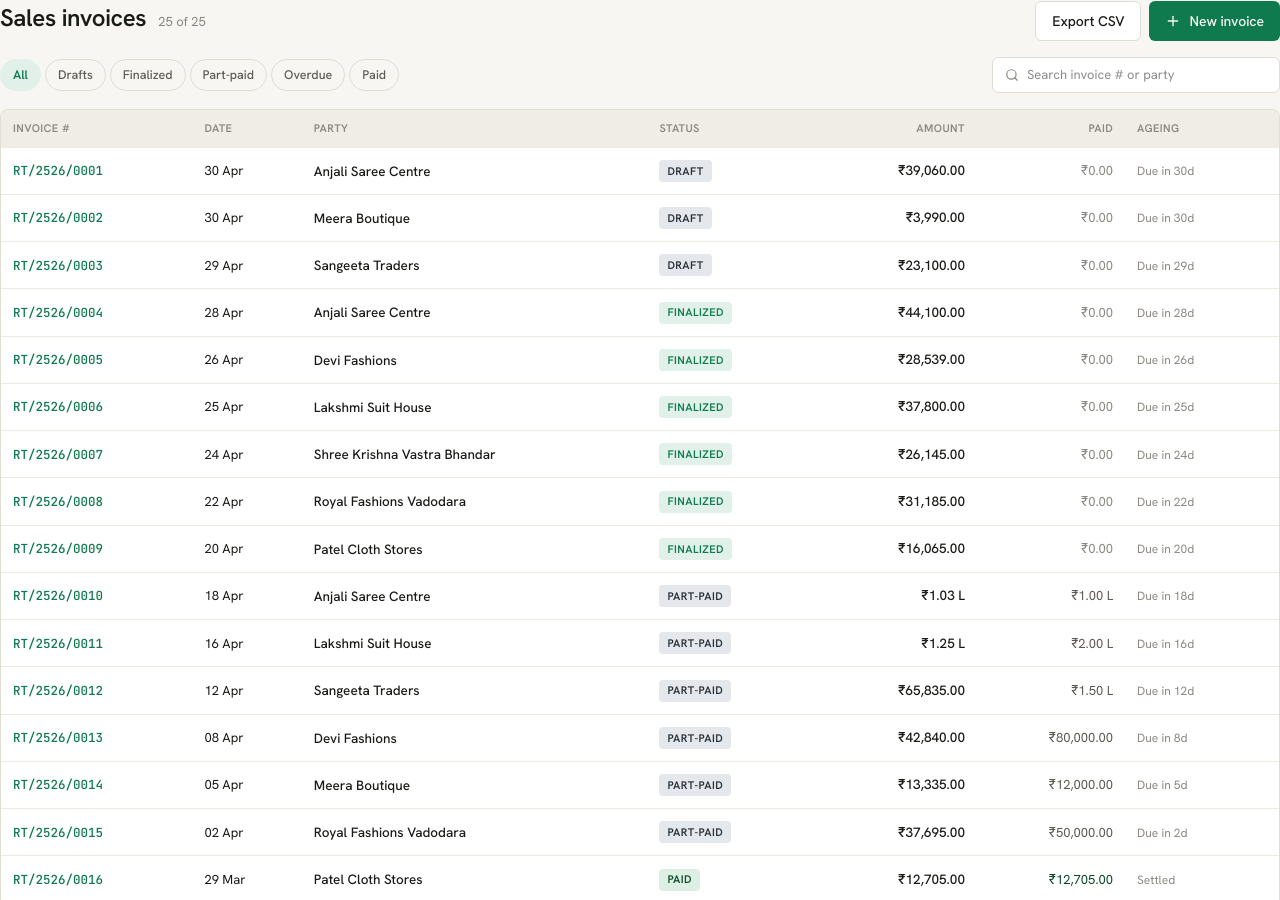
Scenario: InvoiceList › shows an empty state with a Clear filter CTA when the search has no matches
expect the link "RT/2526/0001" is shown: met, box [13,162,103,179]
Type "zzzzzz-no-such-thing" into the search field with placeholder "Search invoice # or party" at (1147, 75), box [1027,65,1267,85]
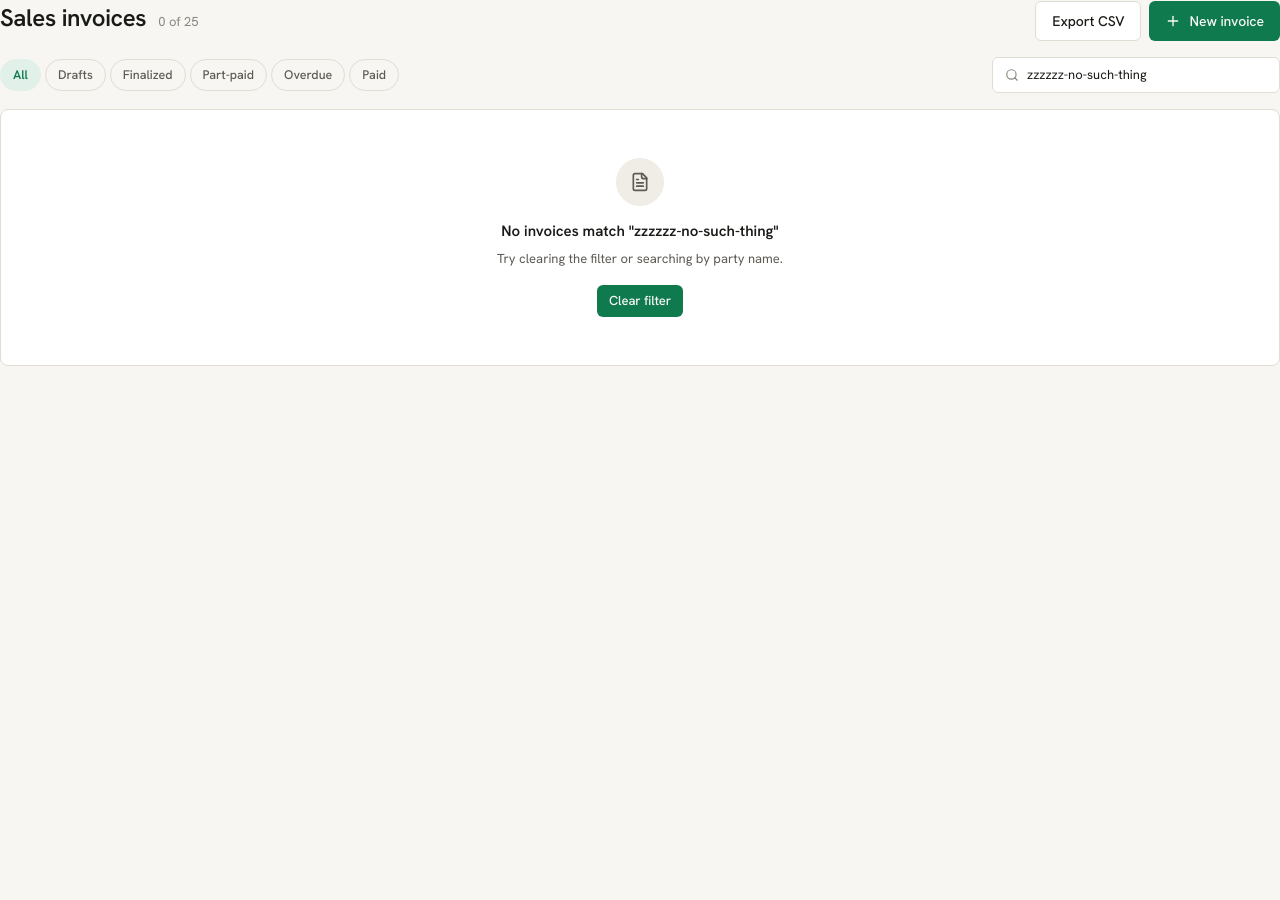
expect the heading "No invoices match \"zzzzzz-no-such-thing\"" is shown: met, box [501,220,779,242]
Click the button "Clear filter" at (640, 301), box [597,285,683,317]
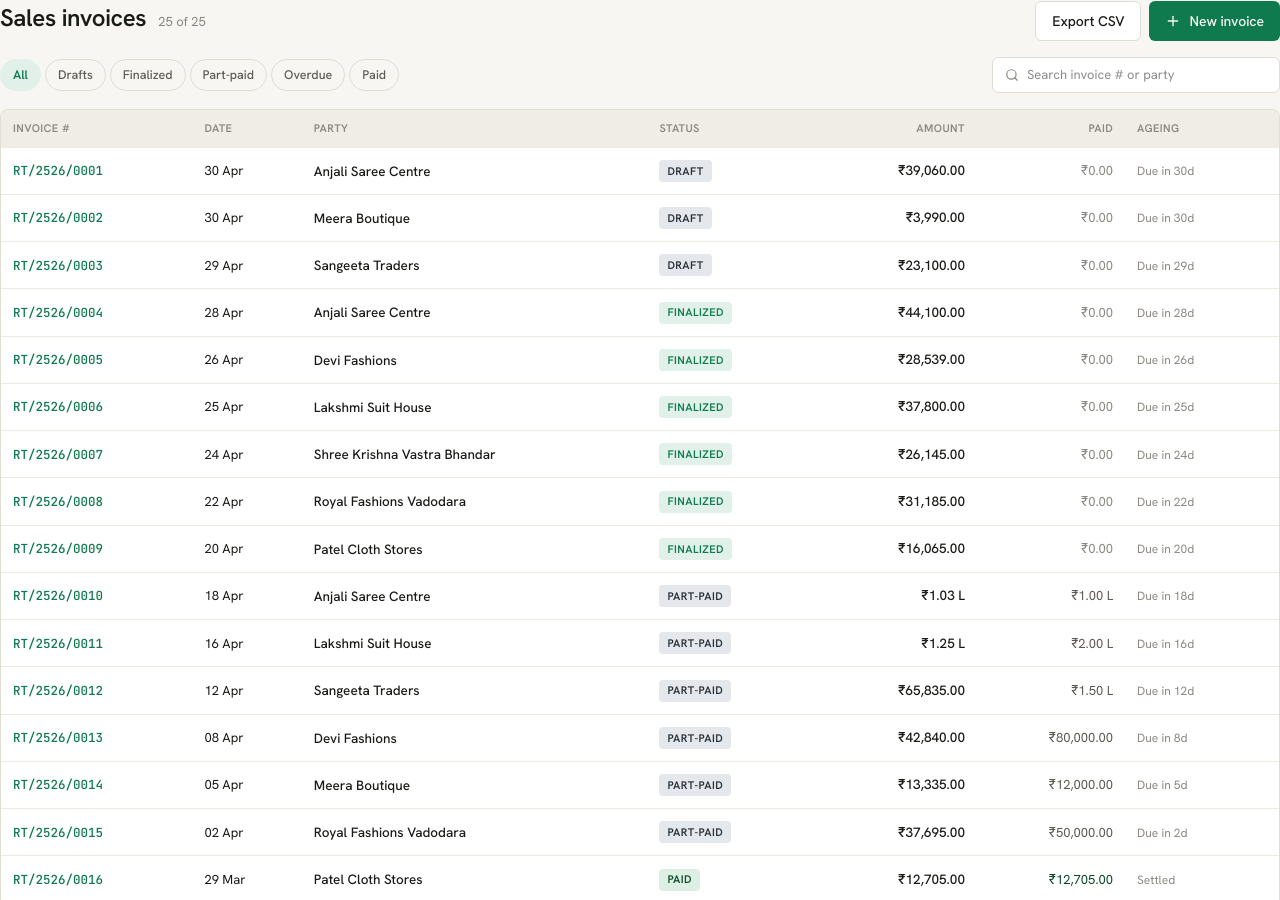
expect the link "RT/2526/0001" is shown: met, box [13,162,103,179]
